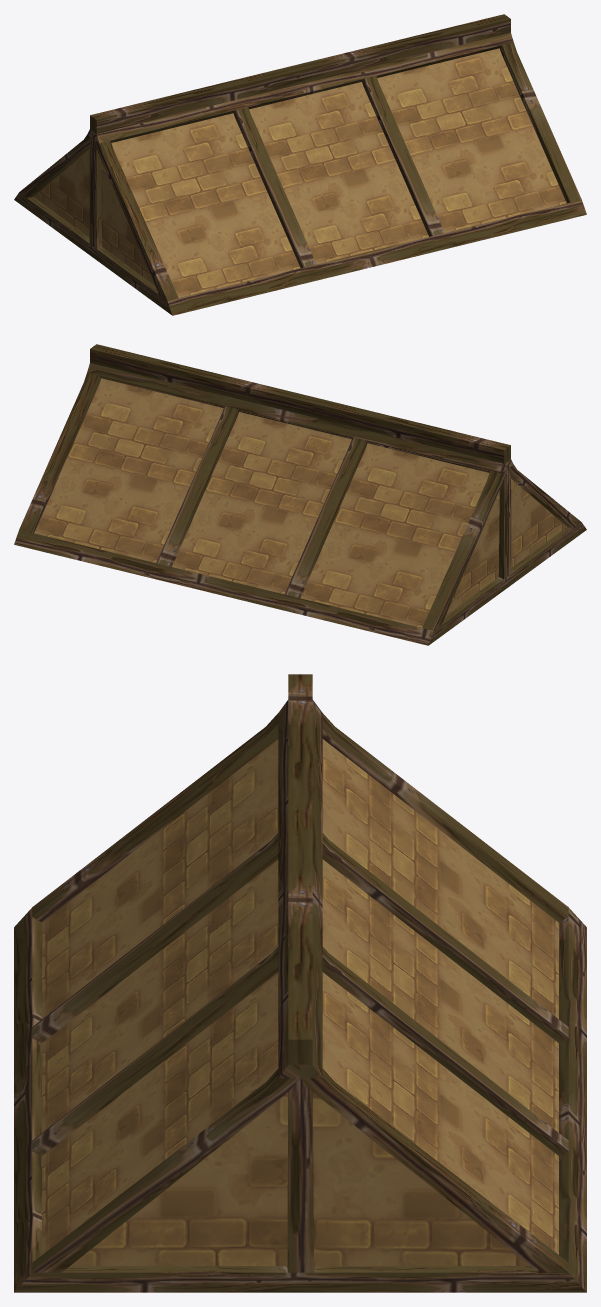
File: roof.fbx
3 renders of one model, top to bottom at view 1: azimuth 30°, elevation 25°; view 2: azimuth 150°, elevation 25°; view 3: azimuth 270°, elevation 25°, orthographic. The views are drawn at different scales.
Visible parts, largest first — view 1: roof; view 2: roof; view 3: roof.
Part boxes in pixels (x1,y1,x2,y2): roof: (14, 14, 586, 315); roof: (14, 344, 586, 645); roof: (14, 674, 586, 1292).
Size of the model in its own units: 805 by 260 by 534.
